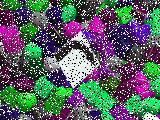Right: (53, 31, 100, 89)
